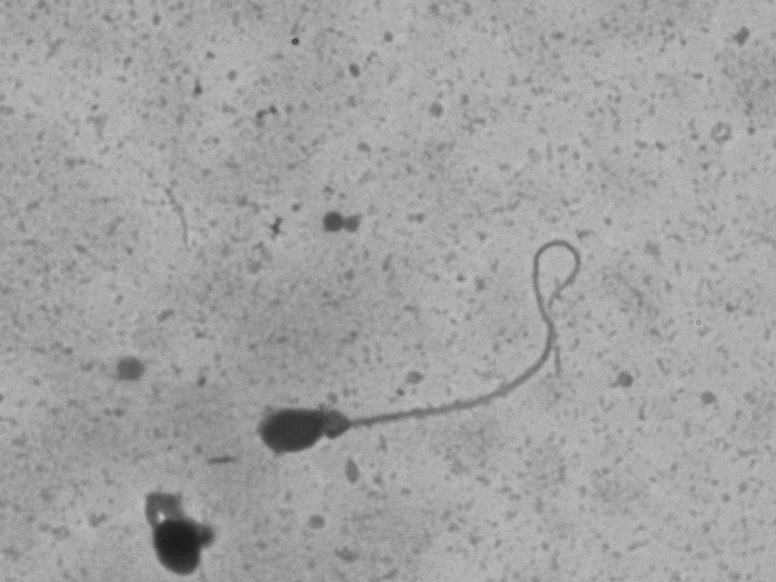Abnormal: (218, 237, 612, 491)
